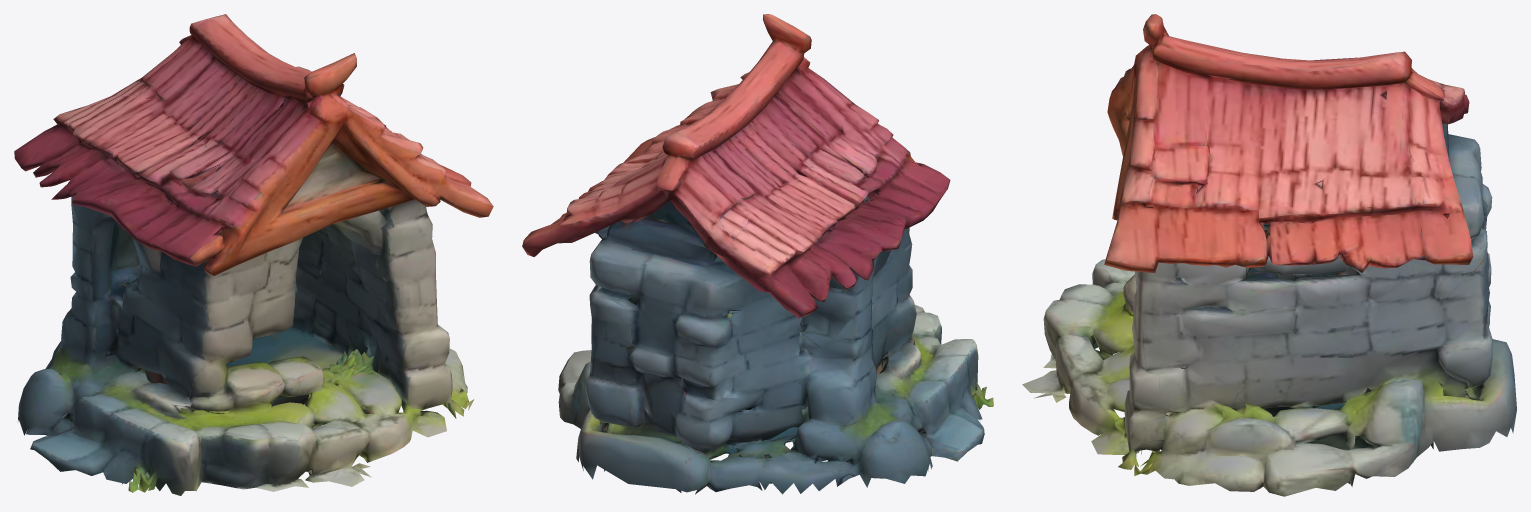
Rendered from stone-well.glb.
The picture shows the model from 3 angles, left to right: view 1: azimuth 30°, elevation 25°; view 2: azimuth 150°, elevation 25°; view 3: azimuth 270°, elevation 25°; orthographic projection. The views are drawn at different scales.
Parts seen in each view (by area): view 1: geometry_0; view 2: geometry_0; view 3: geometry_0.
Part boxes in pixels (x1,y1,x2,y2): geometry_0: (14,14,493,495); geometry_0: (522,14,993,494); geometry_0: (1022,14,1516,496).
Bounding box in the file's own units: 2.88 × 2.5 × 2.78.
Materials: 1 (1 with a texture image).
